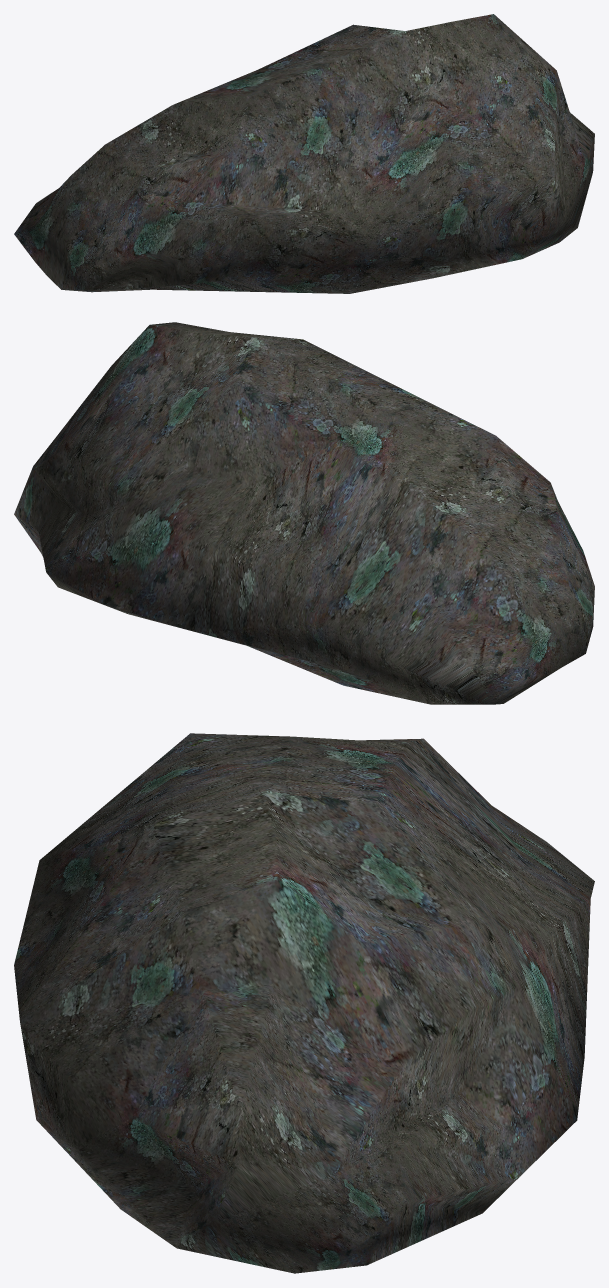
File: rock_forestriverrock_med_l1.fbx
3 views of the same model, one above another, from view 1: azimuth 30°, elevation 25°; view 2: azimuth 150°, elevation 25°; view 3: azimuth 270°, elevation 25° (orthographic). The views are drawn at different scales.
Visible parts, largest first — view 1: mesh_node; view 2: mesh_node; view 3: mesh_node.
Boxes of the visible parts, box(x1,y1,x2,y2) form: mesh_node: box(14, 14, 594, 293); mesh_node: box(14, 322, 594, 704); mesh_node: box(14, 733, 594, 1273).
Size of the model in its own units: 1.71 by 0.7127 by 1.04.
Materials: 1 (1 with a texture image).
